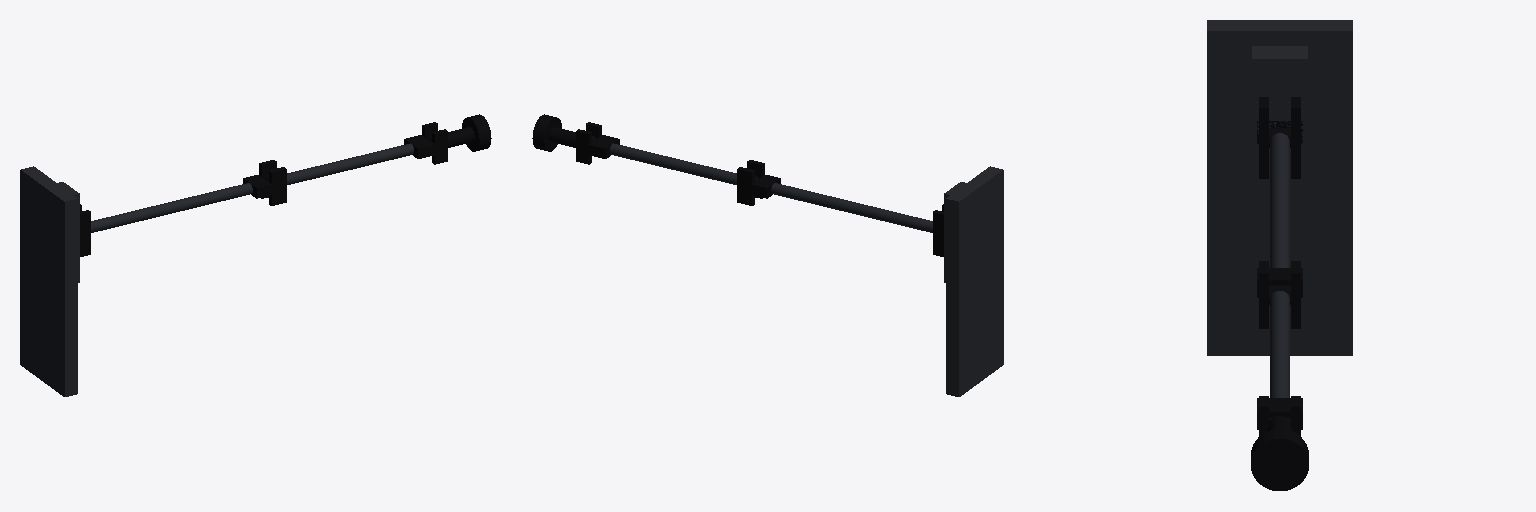
The robot description file, URDF, robot "wall_task_lamp":
<robot name="wall_task_lamp">
  <material name="painted_steel">
    <color rgba="0.18 0.19 0.21 1" />
    </material>
  <material name="hinge_black">
    <color rgba="0.08 0.08 0.09 1" />
    </material>
  <material name="shade_white">
    <color rgba="0.91 0.9 0.85 1" />
    </material>
  <material name="diffuser_metal">
    <color rgba="0.82 0.82 0.8 1" />
    </material>
  <link name="wall_mount">
    <inertial>
      <origin xyz="0.025 0 0.17" rpy="0 0 0" />
      <mass value="1.6" />
      <inertia ixx="0.00753333" ixy="0" ixz="0" iyy="0.00678667" iyz="0" izz="0.00141333" />
      </inertial>
    <visual name="backplate">
      <origin xyz="0.008 0 0.17" rpy="0 0 0" />
      <geometry>
        <box size="0.016 0.09 0.22" />
        </geometry>
      <material name="painted_steel">
        <color rgba="0.18 0.19 0.21 1" />
        </material>
      </visual>
    <visual name="spine_rib">
      <origin xyz="0.025 0 0.22" rpy="0 0 0" />
      <geometry>
        <box size="0.018 0.034 0.1" />
        </geometry>
      <material name="painted_steel">
        <color rgba="0.18 0.19 0.21 1" />
        </material>
      </visual>
    <visual name="shoulder_bridge">
      <origin xyz="0.028 0 0.22" rpy="0 0 0" />
      <geometry>
        <box size="0.012 0.028 0.016" />
        </geometry>
      <material name="hinge_black">
        <color rgba="0.08 0.08 0.09 1" />
        </material>
      </visual>
    <visual name="shoulder_upper_cheek">
      <origin xyz="0.042 0.01 0.22" rpy="0 0 0" />
      <geometry>
        <box size="0.016 0.006 0.048" />
        </geometry>
      <material name="hinge_black">
        <color rgba="0.08 0.08 0.09 1" />
        </material>
      </visual>
    <visual name="shoulder_lower_cheek">
      <origin xyz="0.042 -0.01 0.22" rpy="0 0 0" />
      <geometry>
        <box size="0.016 0.006 0.048" />
        </geometry>
      <material name="hinge_black">
        <color rgba="0.08 0.08 0.09 1" />
        </material>
      </visual>
    </link>
  <link name="upper_arm">
    <inertial>
      <origin xyz="0.122 0 0" rpy="0 0 0" />
      <mass value="0.68" />
      <inertia ixx="0.000126253" ixy="0" ixz="0" iyy="0.00345553" iyz="0" izz="0.00341813" />
      </inertial>
    <visual name="rear_hub">
      <origin xyz="0 0 0" rpy="1.5708 0 0" />
      <geometry>
        <cylinder radius="0.006" length="0.014" />
        </geometry>
      <material name="hinge_black">
        <color rgba="0.08 0.08 0.09 1" />
        </material>
      </visual>
    <visual name="beam">
      <origin xyz="0.111 0 0" rpy="0 1.5708 0" />
      <geometry>
        <cylinder radius="0.006" length="0.21" />
        </geometry>
      <material name="painted_steel">
        <color rgba="0.18 0.19 0.21 1" />
        </material>
      </visual>
    <visual name="elbow_bridge">
      <origin xyz="0.211 0 0" rpy="0 0 0" />
      <geometry>
        <box size="0.018 0.028 0.012" />
        </geometry>
      <material name="hinge_black">
        <color rgba="0.08 0.08 0.09 1" />
        </material>
      </visual>
    <visual name="elbow_upper_cheek">
      <origin xyz="0.229 0.01 0" rpy="0 0 0" />
      <geometry>
        <box size="0.018 0.006 0.038" />
        </geometry>
      <material name="hinge_black">
        <color rgba="0.08 0.08 0.09 1" />
        </material>
      </visual>
    <visual name="elbow_lower_cheek">
      <origin xyz="0.229 -0.01 0" rpy="0 0 0" />
      <geometry>
        <box size="0.018 0.006 0.038" />
        </geometry>
      <material name="hinge_black">
        <color rgba="0.08 0.08 0.09 1" />
        </material>
      </visual>
    </link>
  <link name="forearm">
    <inertial>
      <origin xyz="0.103 0 0" rpy="0 0 0" />
      <mass value="0.54" />
      <inertia ixx="8.73e-05" ixy="0" ixz="0" iyy="0.00194314" iyz="0" izz="0.0019264" />
      </inertial>
    <visual name="rear_hub">
      <origin xyz="0 0 0" rpy="1.5708 0 0" />
      <geometry>
        <cylinder radius="0.006" length="0.014" />
        </geometry>
      <material name="hinge_black">
        <color rgba="0.08 0.08 0.09 1" />
        </material>
      </visual>
    <visual name="beam">
      <origin xyz="0.091 0 0" rpy="0 1.5708 0" />
      <geometry>
        <cylinder radius="0.006" length="0.17" />
        </geometry>
      <material name="painted_steel">
        <color rgba="0.18 0.19 0.21 1" />
        </material>
      </visual>
    <visual name="tip_bridge">
      <origin xyz="0.173 0 0" rpy="0 0 0" />
      <geometry>
        <box size="0.02 0.028 0.012" />
        </geometry>
      <material name="hinge_black">
        <color rgba="0.08 0.08 0.09 1" />
        </material>
      </visual>
    <visual name="pivot_upper_cheek">
      <origin xyz="0.191 0.01 0" rpy="0 0 0" />
      <geometry>
        <box size="0.016 0.006 0.034" />
        </geometry>
      <material name="hinge_black">
        <color rgba="0.08 0.08 0.09 1" />
        </material>
      </visual>
    <visual name="pivot_lower_cheek">
      <origin xyz="0.191 -0.01 0" rpy="0 0 0" />
      <geometry>
        <box size="0.016 0.006 0.034" />
        </geometry>
      <material name="hinge_black">
        <color rgba="0.08 0.08 0.09 1" />
        </material>
      </visual>
    </link>
  <link name="shade">
    <inertial>
      <origin xyz="0.074 0 0" rpy="0 0 0" />
      <mass value="0.36" />
      <inertia ixx="0.00036504" ixy="0" ixz="0" iyy="0.00072927" iyz="0" izz="0.00072927" />
      </inertial>
    <visual name="pivot_hub">
      <origin xyz="0 0 0" rpy="1.5708 0 0" />
      <geometry>
        <cylinder radius="0.006" length="0.014" />
        </geometry>
      <material name="hinge_black">
        <color rgba="0.08 0.08 0.09 1" />
        </material>
      </visual>
    <visual name="neck">
      <origin xyz="0.022 0 0" rpy="0 1.5708 0" />
      <geometry>
        <cylinder radius="0.008" length="0.04" />
        </geometry>
      <material name="hinge_black">
        <color rgba="0.08 0.08 0.09 1" />
        </material>
      </visual>
    <visual name="shade_collar">
      <origin xyz="0.049 0 0" rpy="0 1.5708 0" />
      <geometry>
        <cylinder radius="0.018" length="0.014" />
        </geometry>
      <material name="hinge_black">
        <color rgba="0.08 0.08 0.09 1" />
        </material>
      </visual>
    <visual name="shade_shell">
      <origin xyz="0.089 0 0" rpy="0 1.5708 0" />
      <geometry>
        <mesh filename="assets/meshes/task_lamp_shade_shell.obj" />
        </geometry>
      <material name="shade_white">
        <color rgba="0.91 0.9 0.85 1" />
        </material>
      </visual>
    <visual name="front_rim">
      <origin xyz="0.125 0 0" rpy="0 1.5708 0" />
      <geometry>
        <mesh filename="assets/meshes/task_lamp_front_rim.obj" />
        </geometry>
      <material name="diffuser_metal">
        <color rgba="0.82 0.82 0.8 1" />
        </material>
      </visual>
    </link>
  <joint name="shoulder_hinge" type="revolute">
    <origin xyz="0.042 0 0.22" rpy="0 0 0" />
    <parent link="wall_mount" />
    <child link="upper_arm" />
    <axis xyz="0 1 0" />
    <limit effort="12" velocity="2.5" lower="0" upper="1.15" />
    </joint>
  <joint name="elbow_hinge" type="revolute">
    <origin xyz="0.229 0 0" rpy="0 0 0" />
    <parent link="upper_arm" />
    <child link="forearm" />
    <axis xyz="0 1 0" />
    <limit effort="10" velocity="2.5" lower="-1.05" upper="0.2" />
    </joint>
  <joint name="shade_pivot" type="revolute">
    <origin xyz="0.191 0 0" rpy="0 0 0" />
    <parent link="forearm" />
    <child link="shade" />
    <axis xyz="0 1 0" />
    <limit effort="4" velocity="3" lower="-0.85" upper="0.65" />
    </joint>
  </robot>

--- Render facts (derived) ---
3 views of the same robot in one strip: view 1: azimuth 30°, elevation 25°; view 2: azimuth 150°, elevation 25°; view 3: azimuth 270°, elevation 25° (orthographic).
Robot: wall_task_lamp — 4 links, 3 joints (3 revolute); root link wall_mount; default pose: every joint at zero.
Links seen in each view (by area): view 1: wall_mount, upper_arm, forearm, shade; view 2: wall_mount, upper_arm, forearm, shade; view 3: wall_mount, upper_arm, forearm, shade.
Link boxes in pixels (x1,y1,x2,y2): wall_mount: [20, 166, 90, 396]; upper_arm: [91, 160, 286, 232]; forearm: [265, 122, 447, 184]; shade: [428, 114, 491, 151]; wall_mount: [933, 166, 1003, 396]; upper_arm: [737, 160, 932, 232]; forearm: [576, 122, 758, 184]; shade: [532, 114, 595, 151]; wall_mount: [1207, 20, 1352, 355]; upper_arm: [1257, 128, 1302, 328]; forearm: [1257, 285, 1302, 435]; shade: [1251, 416, 1308, 490].
Bounding box of the posed robot: 0.518 × 0.09 × 0.22 m (x, y, z).
Meshes: 2 distinct files referenced, 0 mesh visuals loaded (none loaded); not drawn: 2 (reference not matched to a file when rendering).
